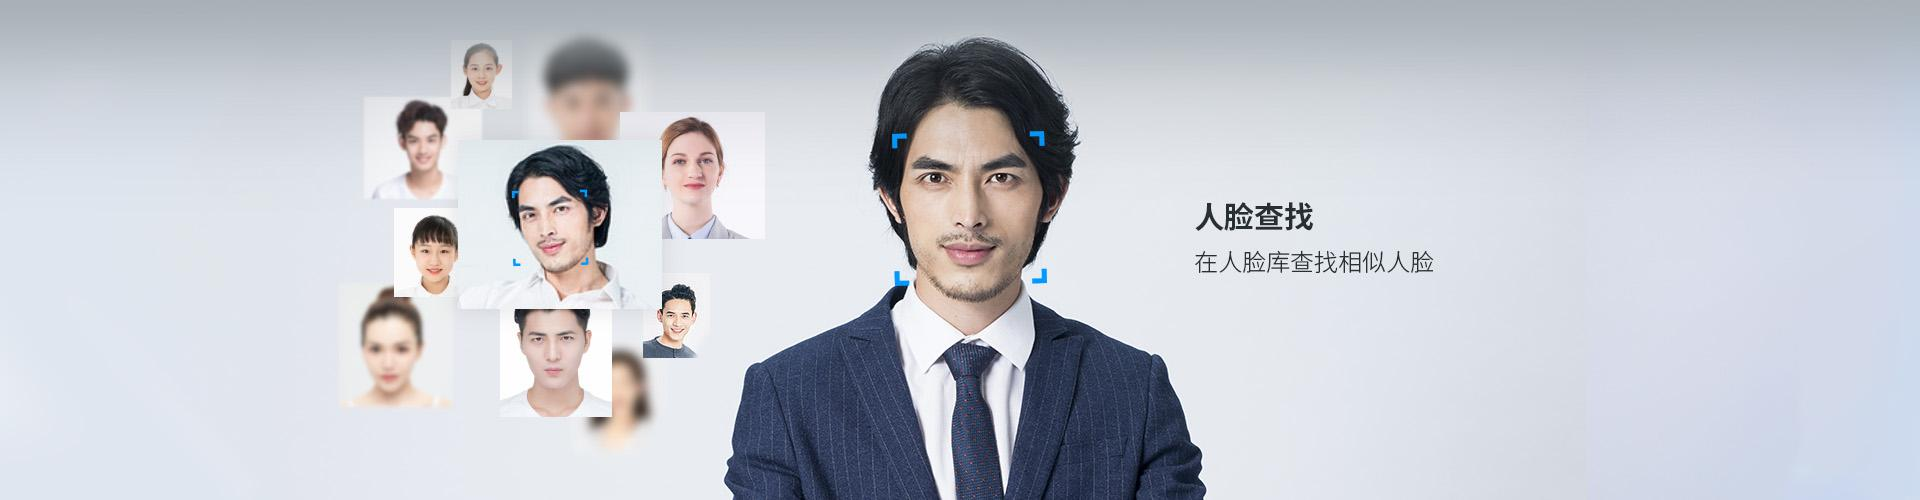no_mask: (897, 104, 1037, 292)
